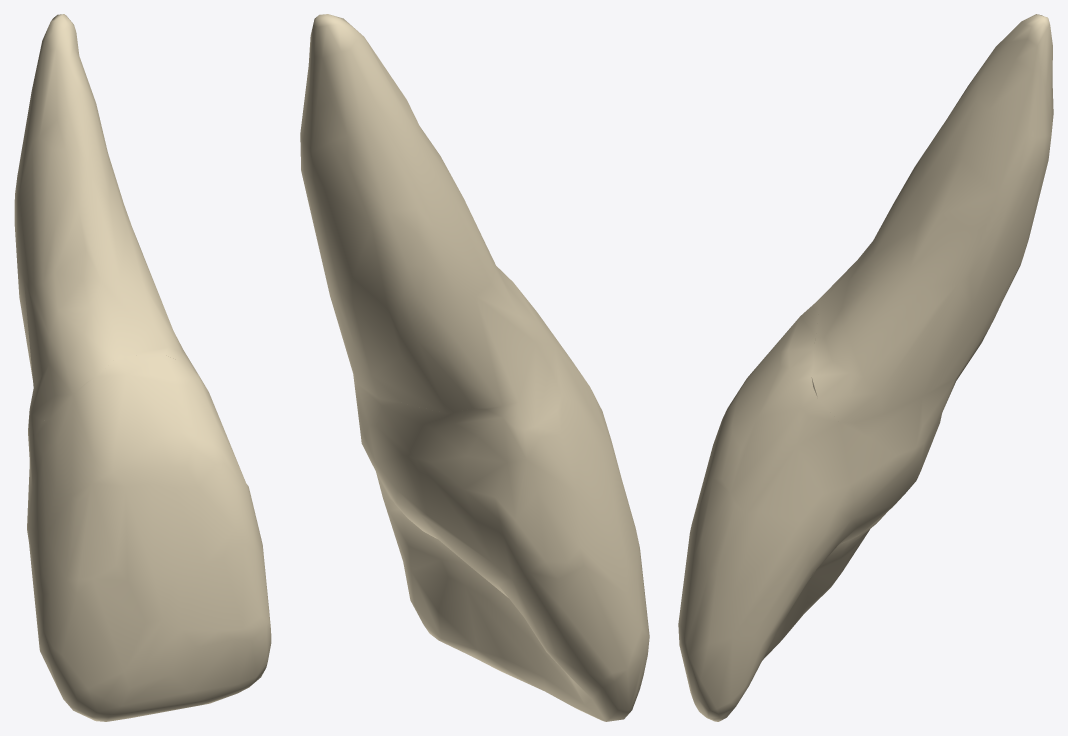
File: esqueleto-upper-medial-incisor-r.glb
The picture shows the model from 3 angles, left to right: view 1: azimuth 30°, elevation 25°; view 2: azimuth 150°, elevation 25°; view 3: azimuth 270°, elevation 25°; orthographic projection. The views are drawn at different scales.
Parts seen in each view (by area): view 1: Upper medial incisor.r; view 2: Upper medial incisor.r; view 3: Upper medial incisor.r.
Part boxes in pixels (x1,y1,x2,y2): Upper medial incisor.r: (14, 14, 271, 721); Upper medial incisor.r: (300, 14, 649, 721); Upper medial incisor.r: (678, 14, 1053, 721).
Size of the model in its own units: 0.00879 by 0.0258 by 0.0126.
